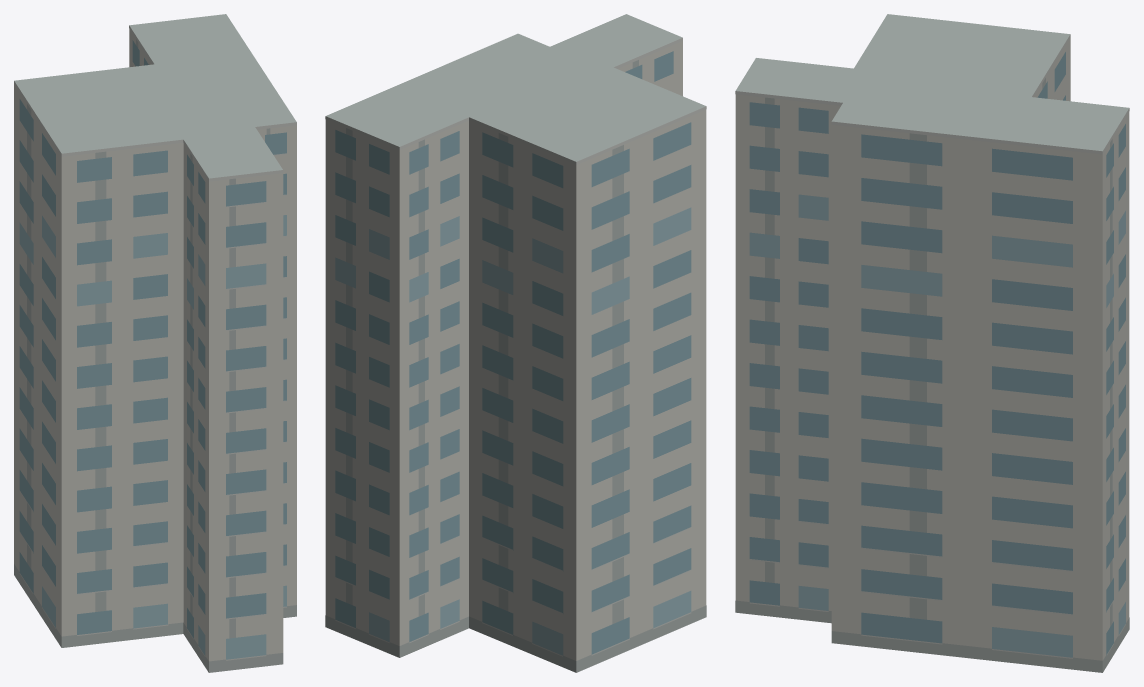
File: residential-27269b62-9bc9-48bf-b42d-1765407754ac.glb
The picture shows the model from 3 angles, left to right: view 1: azimuth 30°, elevation 25°; view 2: azimuth 150°, elevation 25°; view 3: azimuth 270°, elevation 25°; orthographic projection. The views are drawn at different scales.
Visible parts, largest first — view 1: residential-27269b62-9bc9-48bf-b42d-1765407754ac.tmp; view 2: residential-27269b62-9bc9-48bf-b42d-1765407754ac.tmp; view 3: residential-27269b62-9bc9-48bf-b42d-1765407754ac.tmp.
Part boxes in pixels (box(x1,y1,x2,y2)): residential-27269b62-9bc9-48bf-b42d-1765407754ac.tmp: box(14, 14, 296, 672); residential-27269b62-9bc9-48bf-b42d-1765407754ac.tmp: box(325, 14, 706, 672); residential-27269b62-9bc9-48bf-b42d-1765407754ac.tmp: box(735, 14, 1129, 672).
Size of the model in its own units: 22.02 by 39 by 26.71.
